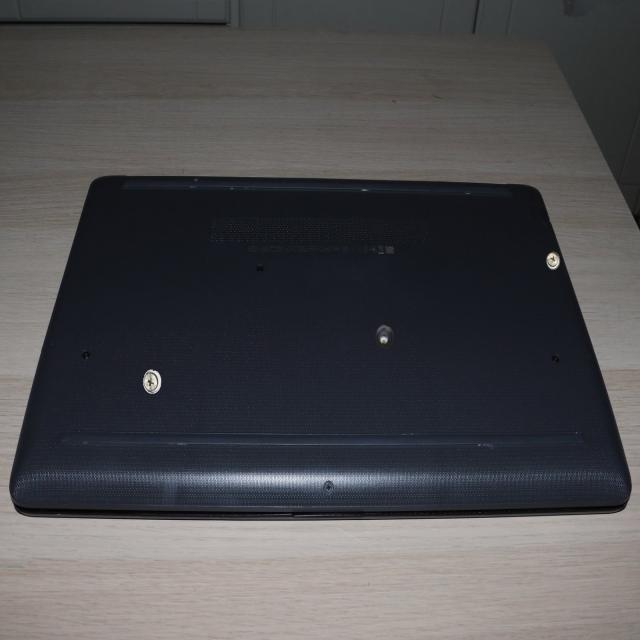lock: (143, 369, 161, 394), (546, 251, 560, 269)
missing_screw: (375, 324, 394, 349)
